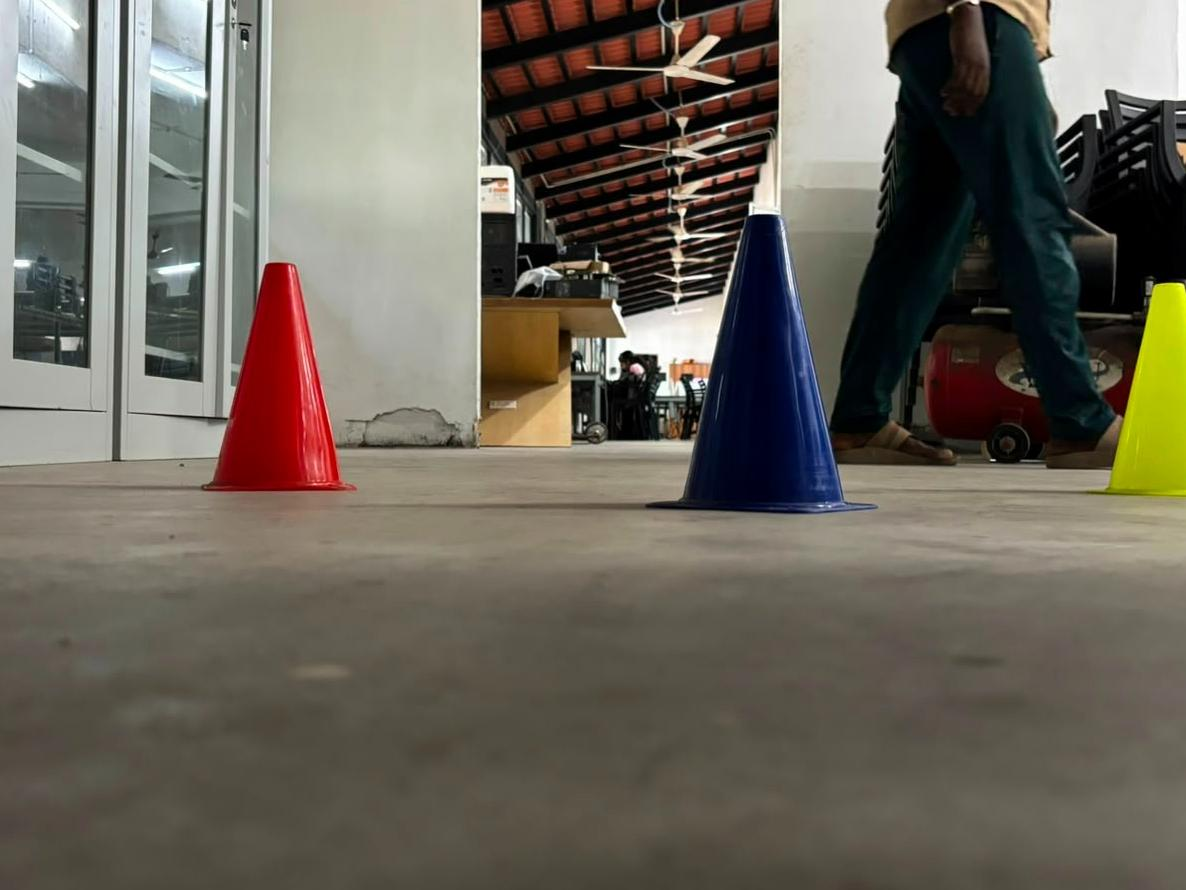0 cone: (647, 214, 873, 513), (205, 264, 351, 489), (1102, 283, 1186, 494)
